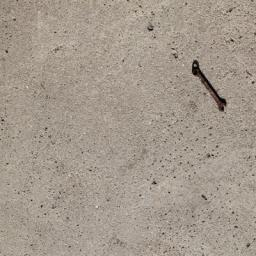FOD: (189, 57, 231, 117)
